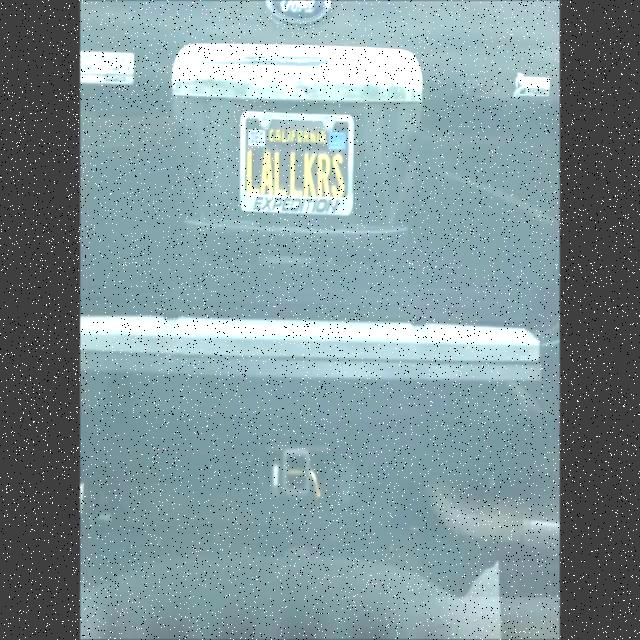licenseplate: (234, 96, 368, 235)
